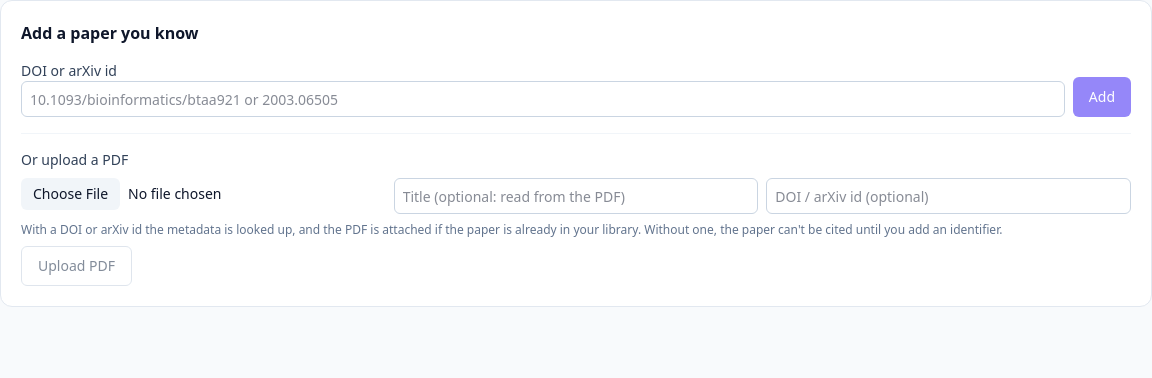
Test: AddPaper › adds by DOI and says when the paper was already there
The image size is (1152, 378).
Type "10.1093/bioinformatics/btaa921" into the field labelled "DOI or arXiv id".
click(543, 99); type("10.1093/bioinformatics/btaa921")  # box [21,81,1065,117]
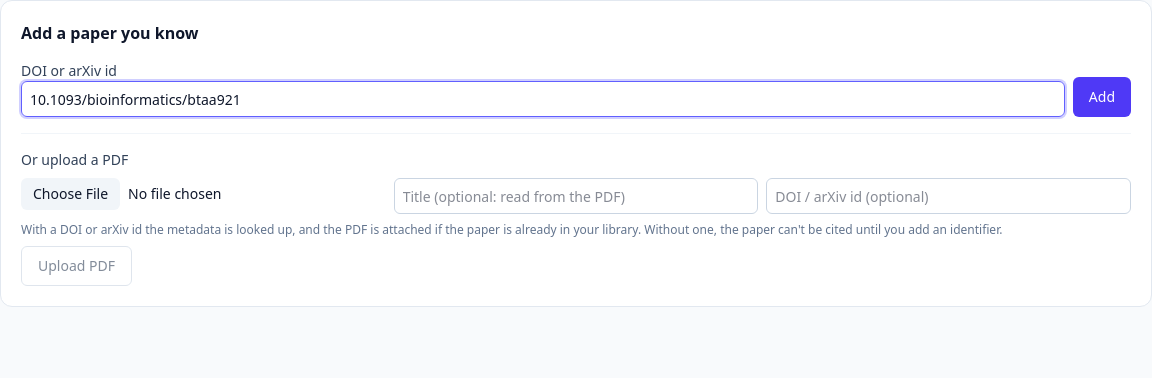
Click the button "Add".
click(1102, 97)  # box [1073,77,1131,117]
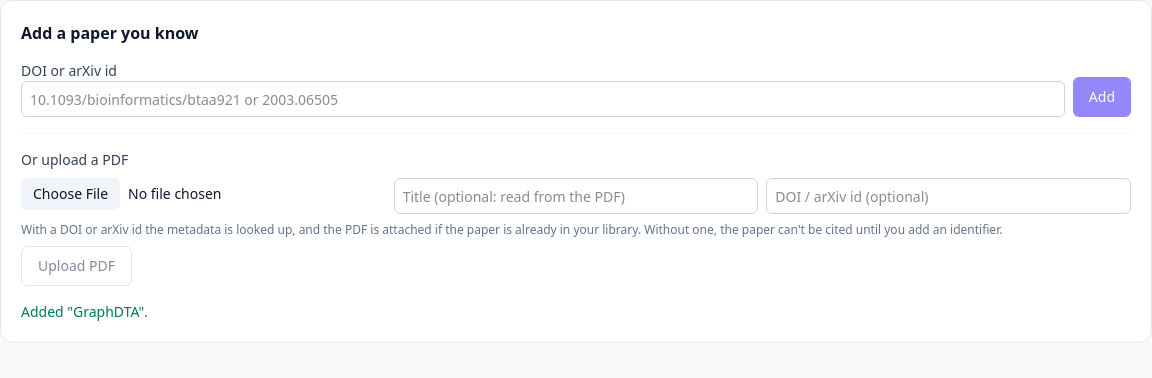
Expected: the text "Added \"GraphDTA\"." is shown, [21,302,148,321]
Type "10.1093/bioinformatics/btaa921" into the field labelled "DOI or arXiv id".
click(543, 99); type("10.1093/bioinformatics/btaa921")  # box [21,81,1065,117]
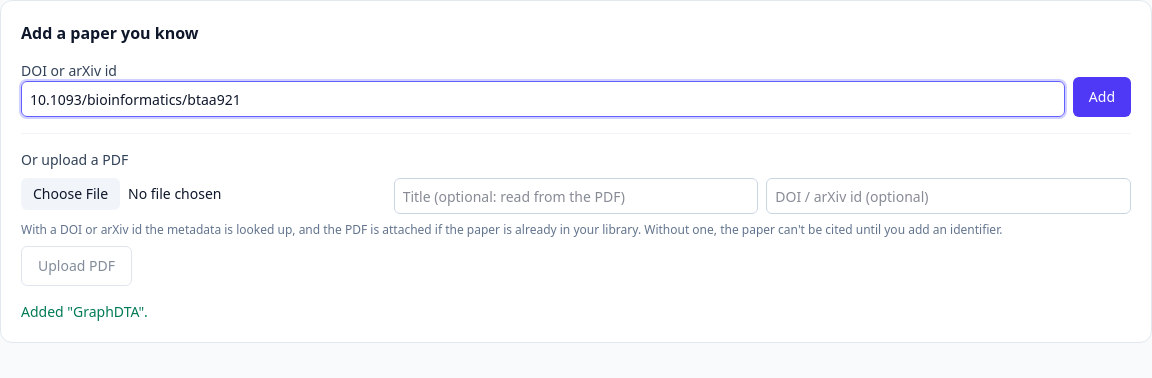
Click the button "Add".
click(1102, 97)  # box [1073,77,1131,117]
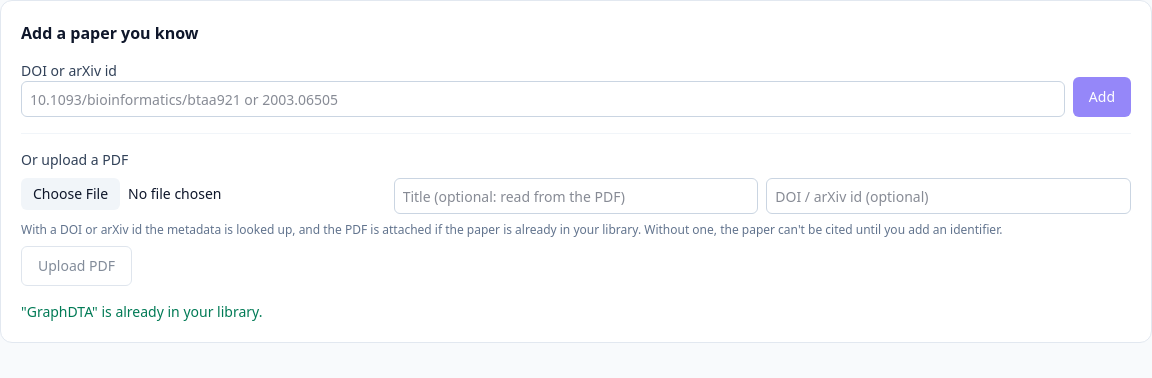
Expected: the text "\"GraphDTA\" is already in your library." is shown, [21,302,262,321]
Type "10.9/x" into the field labelled "DOI or arXiv id".
click(543, 99); type("10.9/x")  # box [21,81,1065,117]
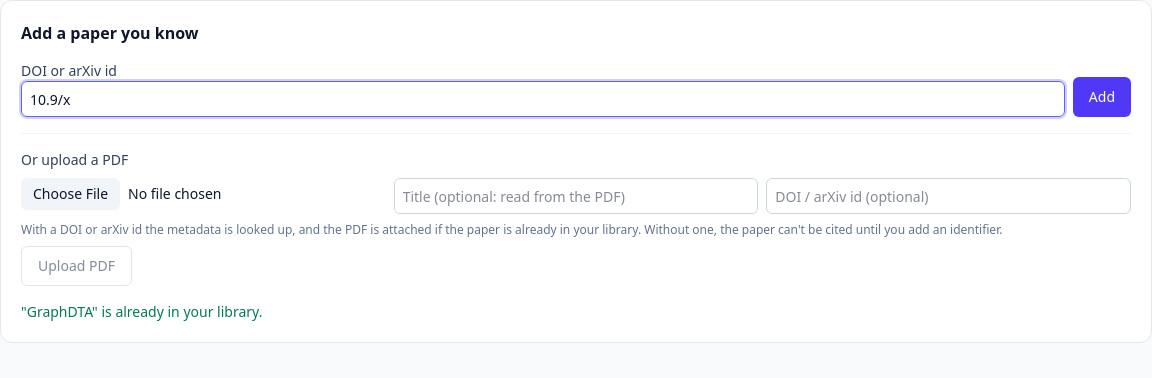
Click the button "Add".
click(1102, 97)  # box [1073,77,1131,117]
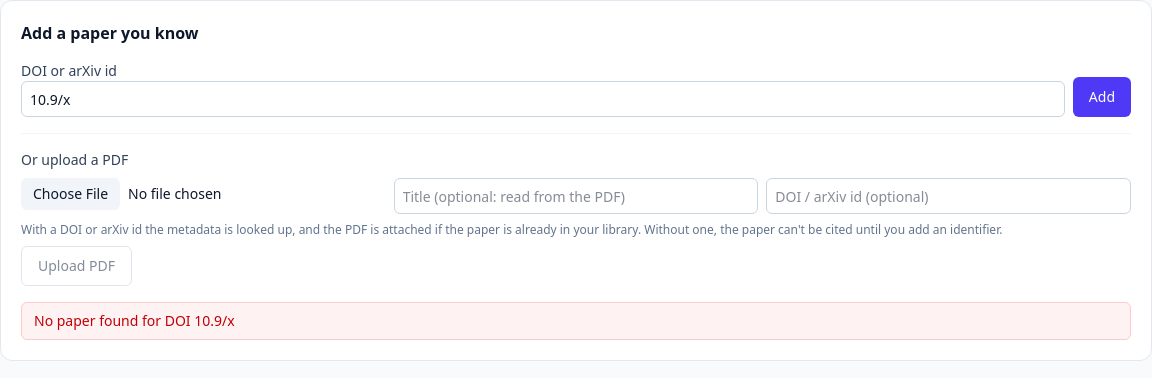
Expected: the message reads "No paper found for DOI 10.9/x", [34,311,235,330]
